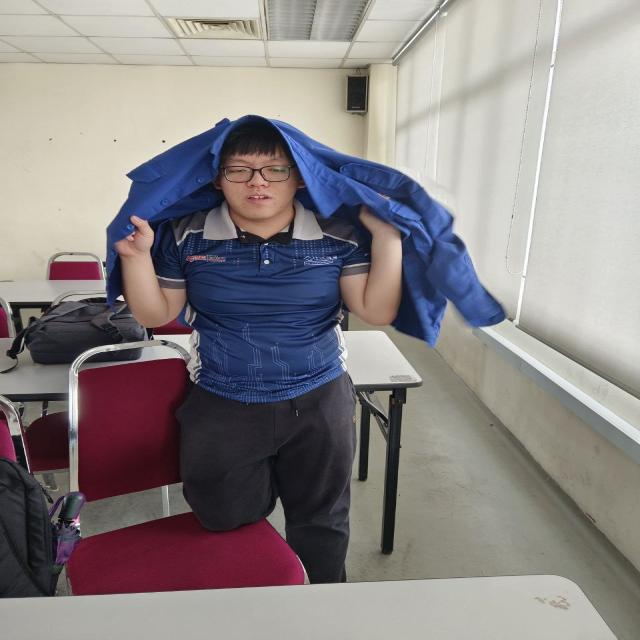person_without_labcoat: (107, 116, 504, 582)
